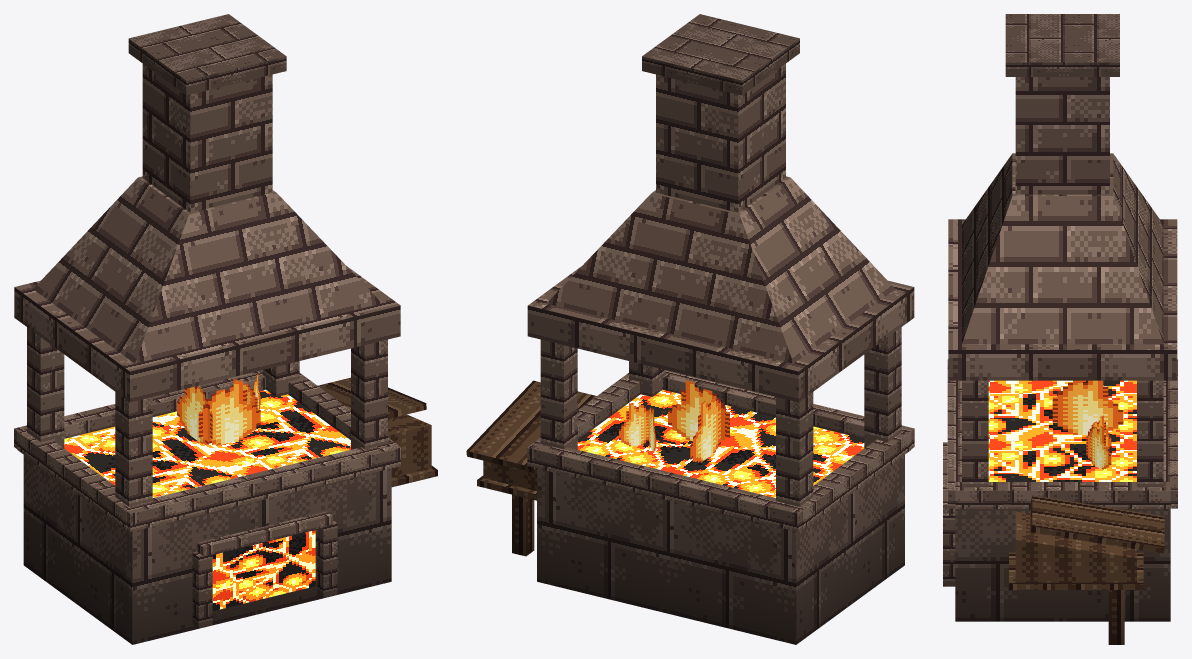
Rendered from forge.glb.
3 renders of one model, left to right at view 1: azimuth 30°, elevation 25°; view 2: azimuth 150°, elevation 25°; view 3: azimuth 270°, elevation 25°, orthographic.
Visible parts, largest first — view 1: forge, flame; view 2: forge, flame; view 3: forge, flame.
Boxes of the visible parts, bbox=[...] form: forge: bbox=[14, 14, 437, 644]; flame: bbox=[177, 373, 260, 445]; forge: bbox=[466, 14, 914, 644]; flame: bbox=[619, 380, 729, 462]; forge: bbox=[943, 14, 1177, 644]; flame: bbox=[1052, 380, 1123, 469].
Bounding box in the file's own units: 2.88 × 4.27 × 1.75.
6 materials, 6 textured.
